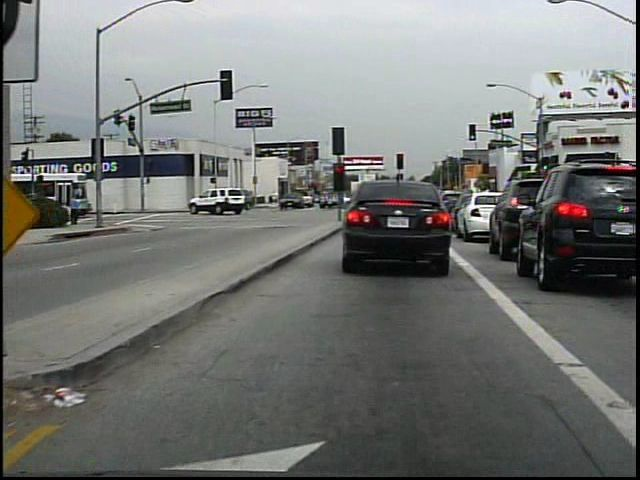person: (70, 192, 84, 226), (270, 187, 281, 209)
